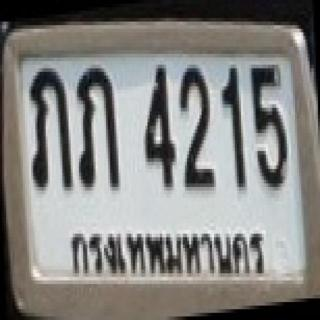A32: (74, 64, 128, 194), (23, 64, 74, 194)
N01: (218, 62, 251, 194)
N02: (179, 63, 221, 199)
N04: (138, 63, 180, 195)
N05: (249, 63, 295, 195)
P04: (65, 226, 267, 282)
